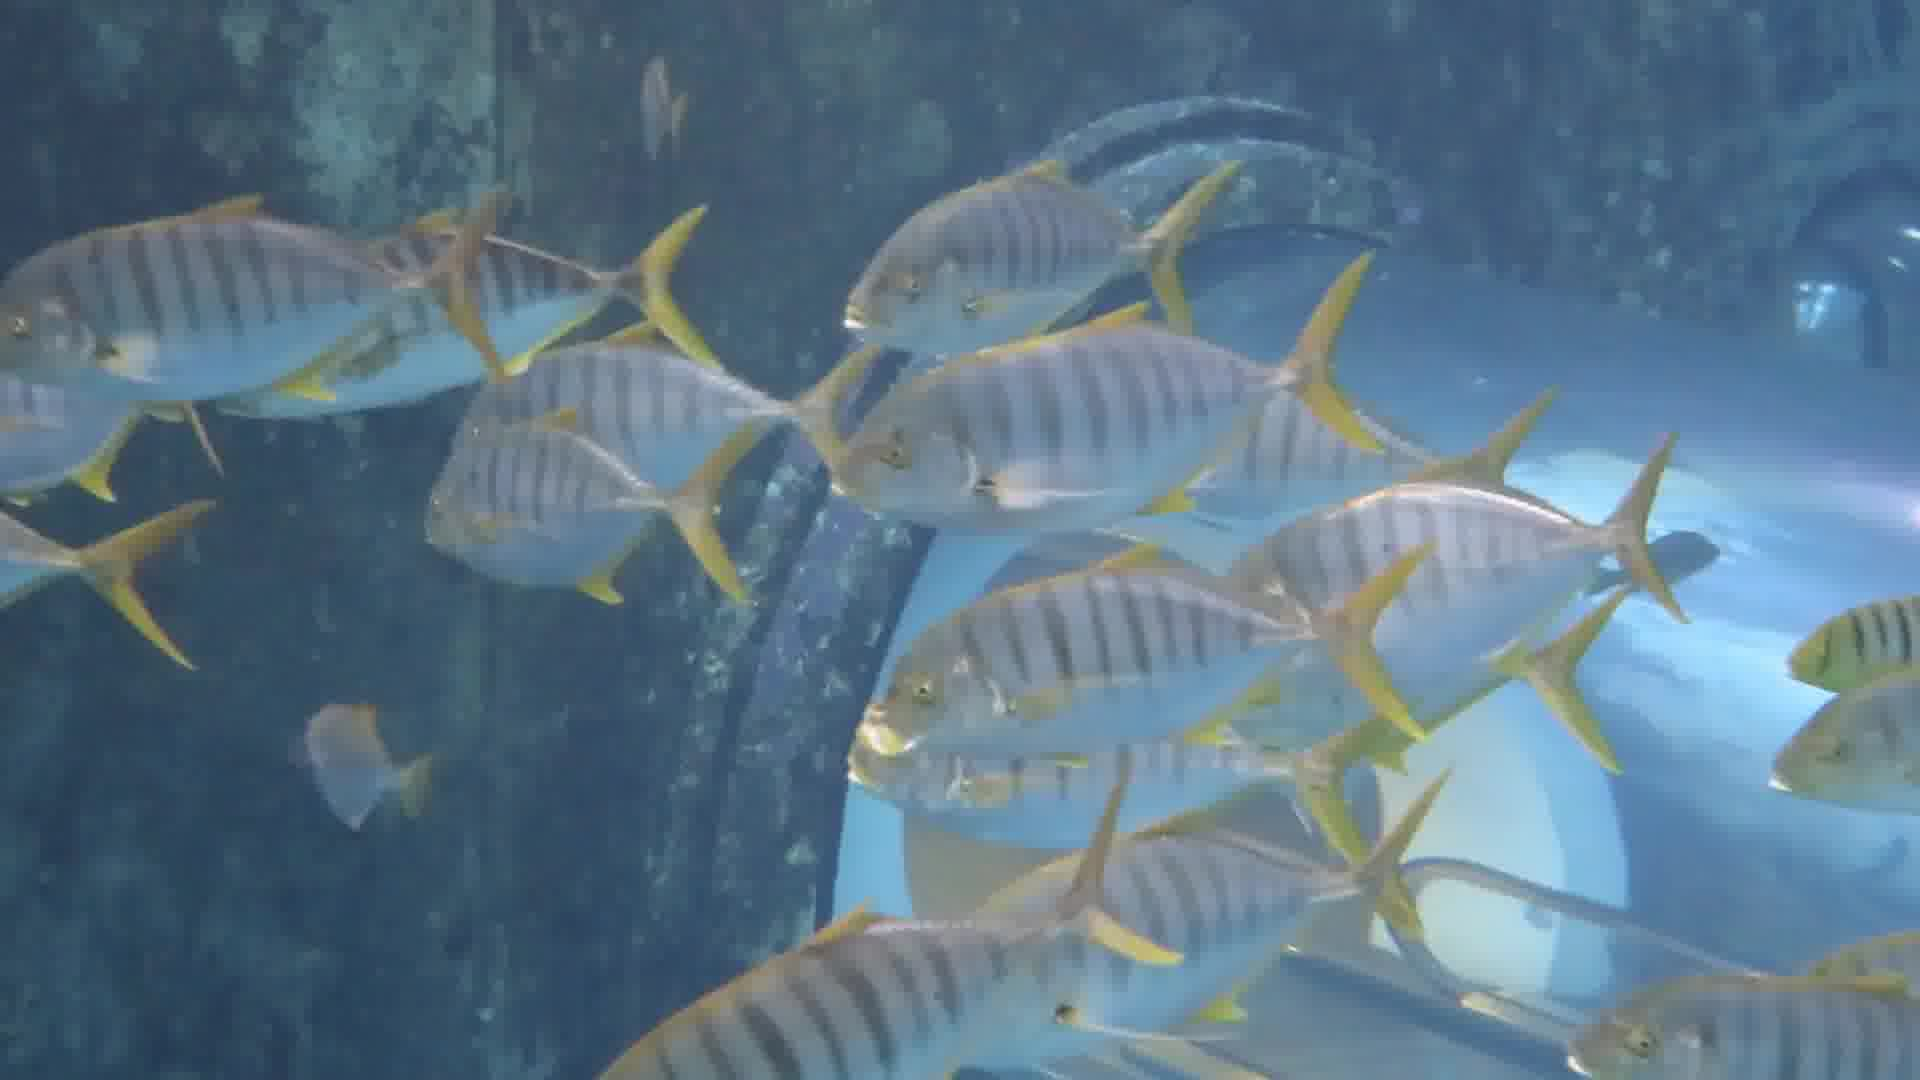Gnathanodon speciosus: (810, 309, 1501, 535), (884, 547, 1385, 774), (3, 203, 531, 386), (836, 145, 1240, 345), (400, 430, 741, 591)
